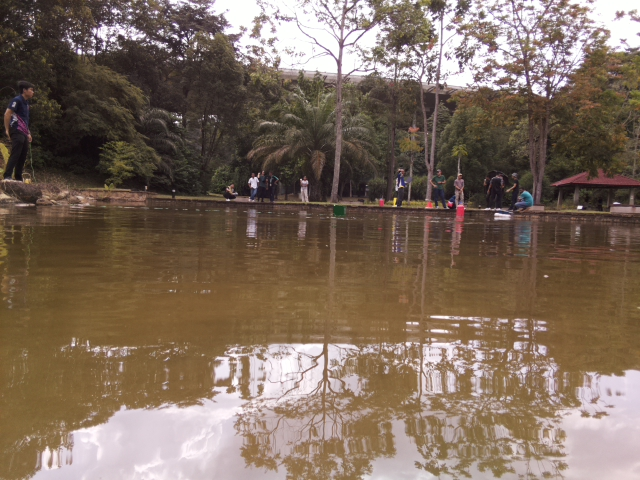obstacle: (331, 204, 348, 217)
